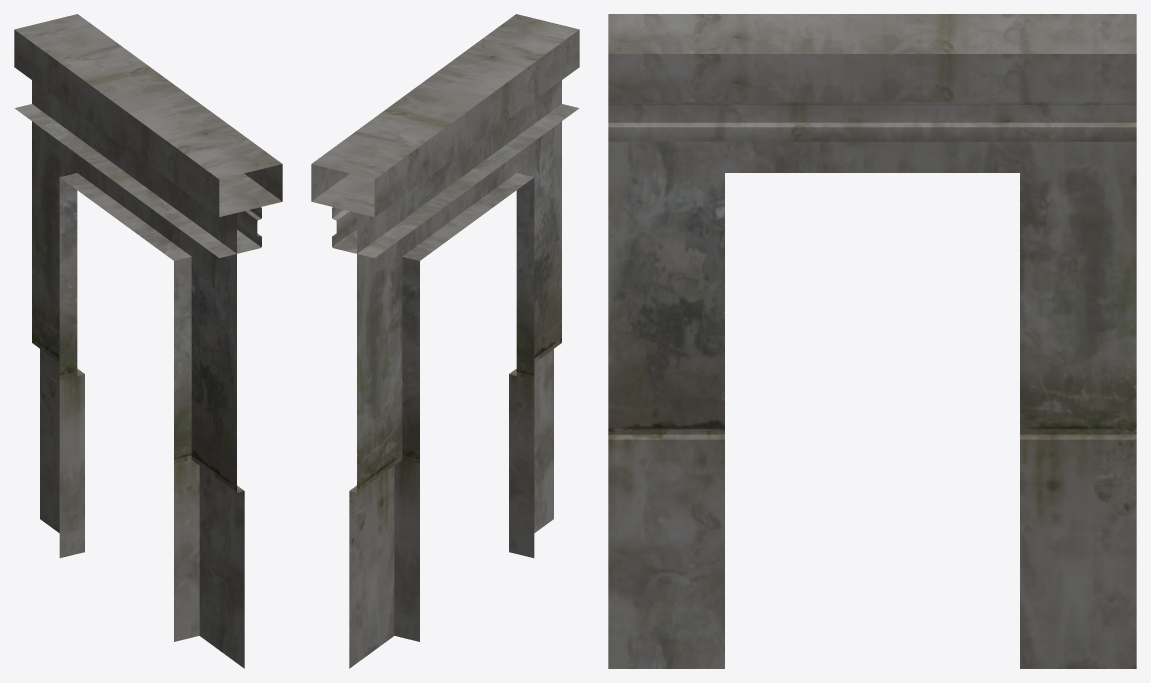
Rendered from Psychiatric_Ward_Guards_Room_Exterior_Wall_2m_Door.glb.
The picture shows the model from 3 angles, left to right: view 1: azimuth 30°, elevation 25°; view 2: azimuth 150°, elevation 25°; view 3: azimuth 270°, elevation 25°; orthographic projection. The views are drawn at different scales.
Parts seen in each view (by area): view 1: Psychiatric_Ward_Guards_Room_Exterior_Wall_2m_Door; view 2: Psychiatric_Ward_Guards_Room_Exterior_Wall_2m_Door; view 3: Psychiatric_Ward_Guards_Room_Exterior_Wall_2m_Door.
Part boxes in pixels (box(x1,y1,x2,y2)): Psychiatric_Ward_Guards_Room_Exterior_Wall_2m_Door: box(14, 14, 282, 668); Psychiatric_Ward_Guards_Room_Exterior_Wall_2m_Door: box(311, 14, 579, 668); Psychiatric_Ward_Guards_Room_Exterior_Wall_2m_Door: box(608, 14, 1136, 668).
Bounding box in the file's own units: 0.3569 × 2.67 × 2.
2 materials, 2 textured.
